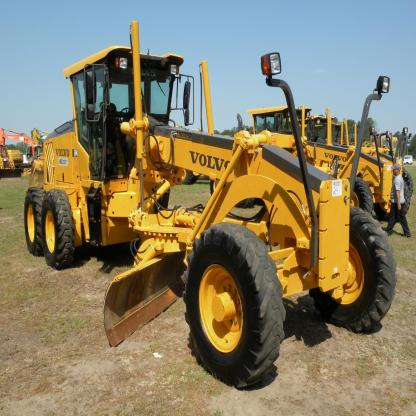bull_dozer/loader/grader: (22, 22, 402, 394)
